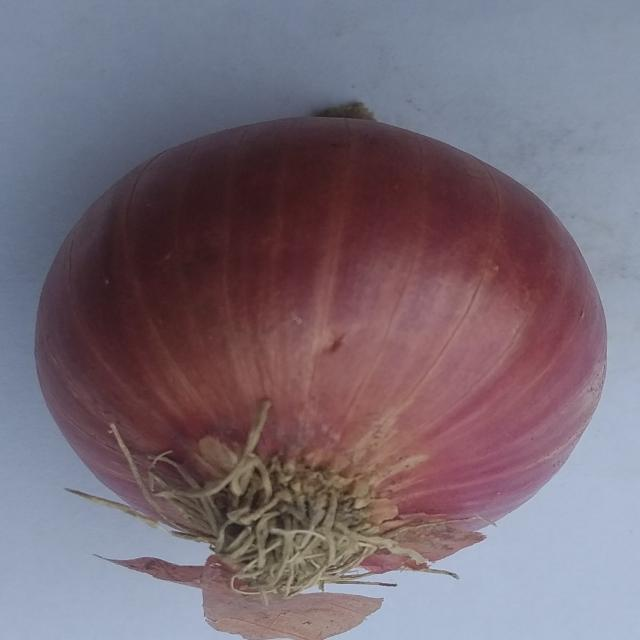onion: (32, 100, 616, 640)
